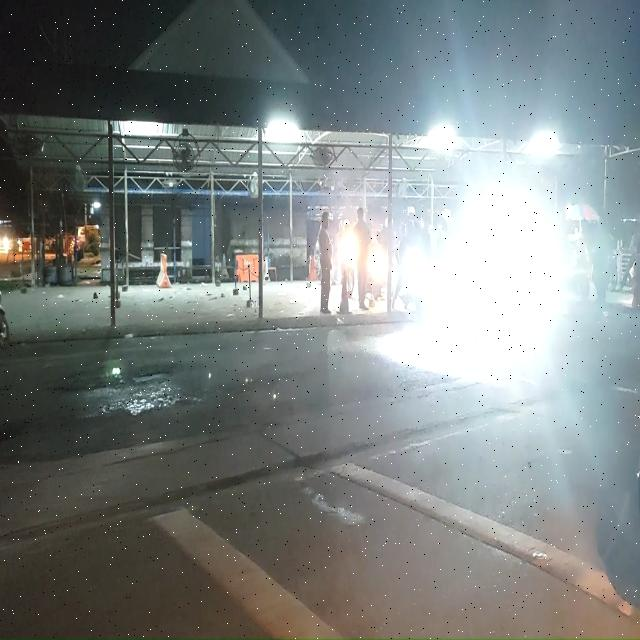Golongan II: (400, 246, 428, 313), (367, 242, 388, 300)
